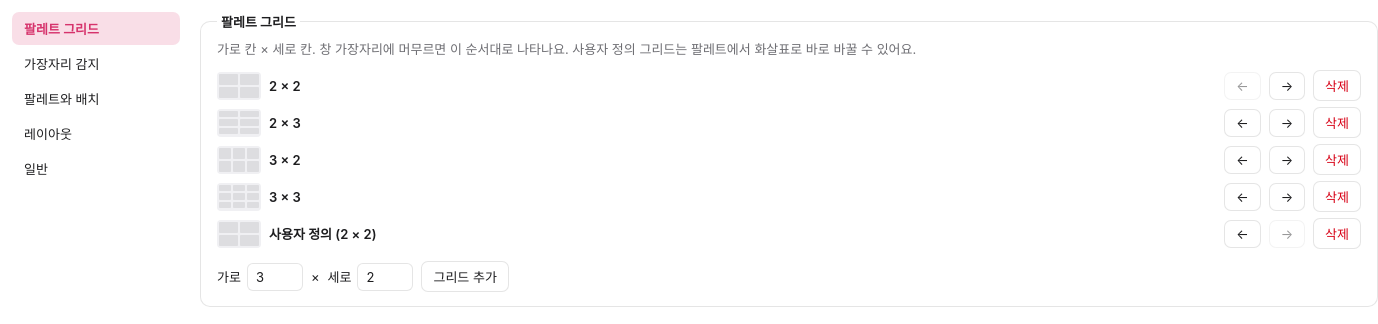
Test: GridTab › shows one section at a time, picked from the sidebar
Check: the panel shows "팔레트 그리드", box x1=221 y1=14 x2=296 y2=30
Click the tab "레이아웃" at point(96, 134), box x1=12 y1=117 x2=180 y2=150
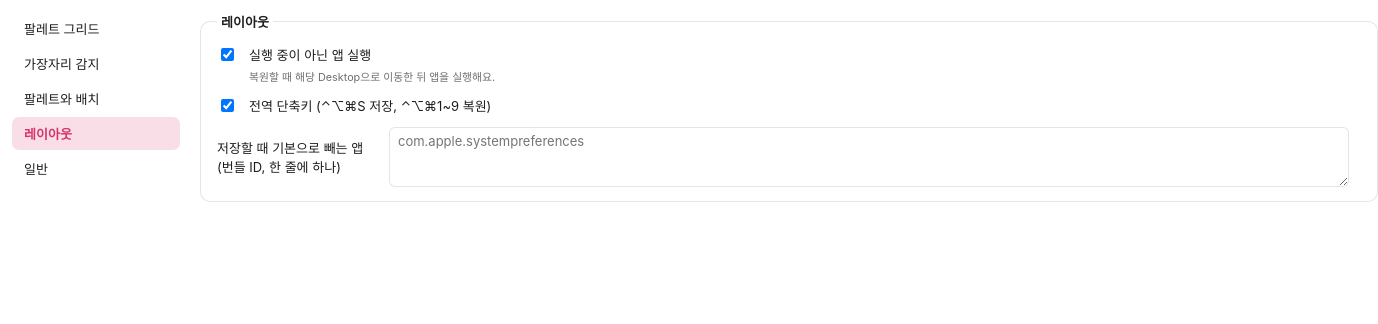
Check: the checkbox labelled "실행 중이 아닌 앱 실행 복원할 때 해당 Desktop으로 이동한 뒤 앱을 실행해요." is shown, box x1=221 y1=48 x2=234 y2=61
Check: the button "그리드 추가" is gone
